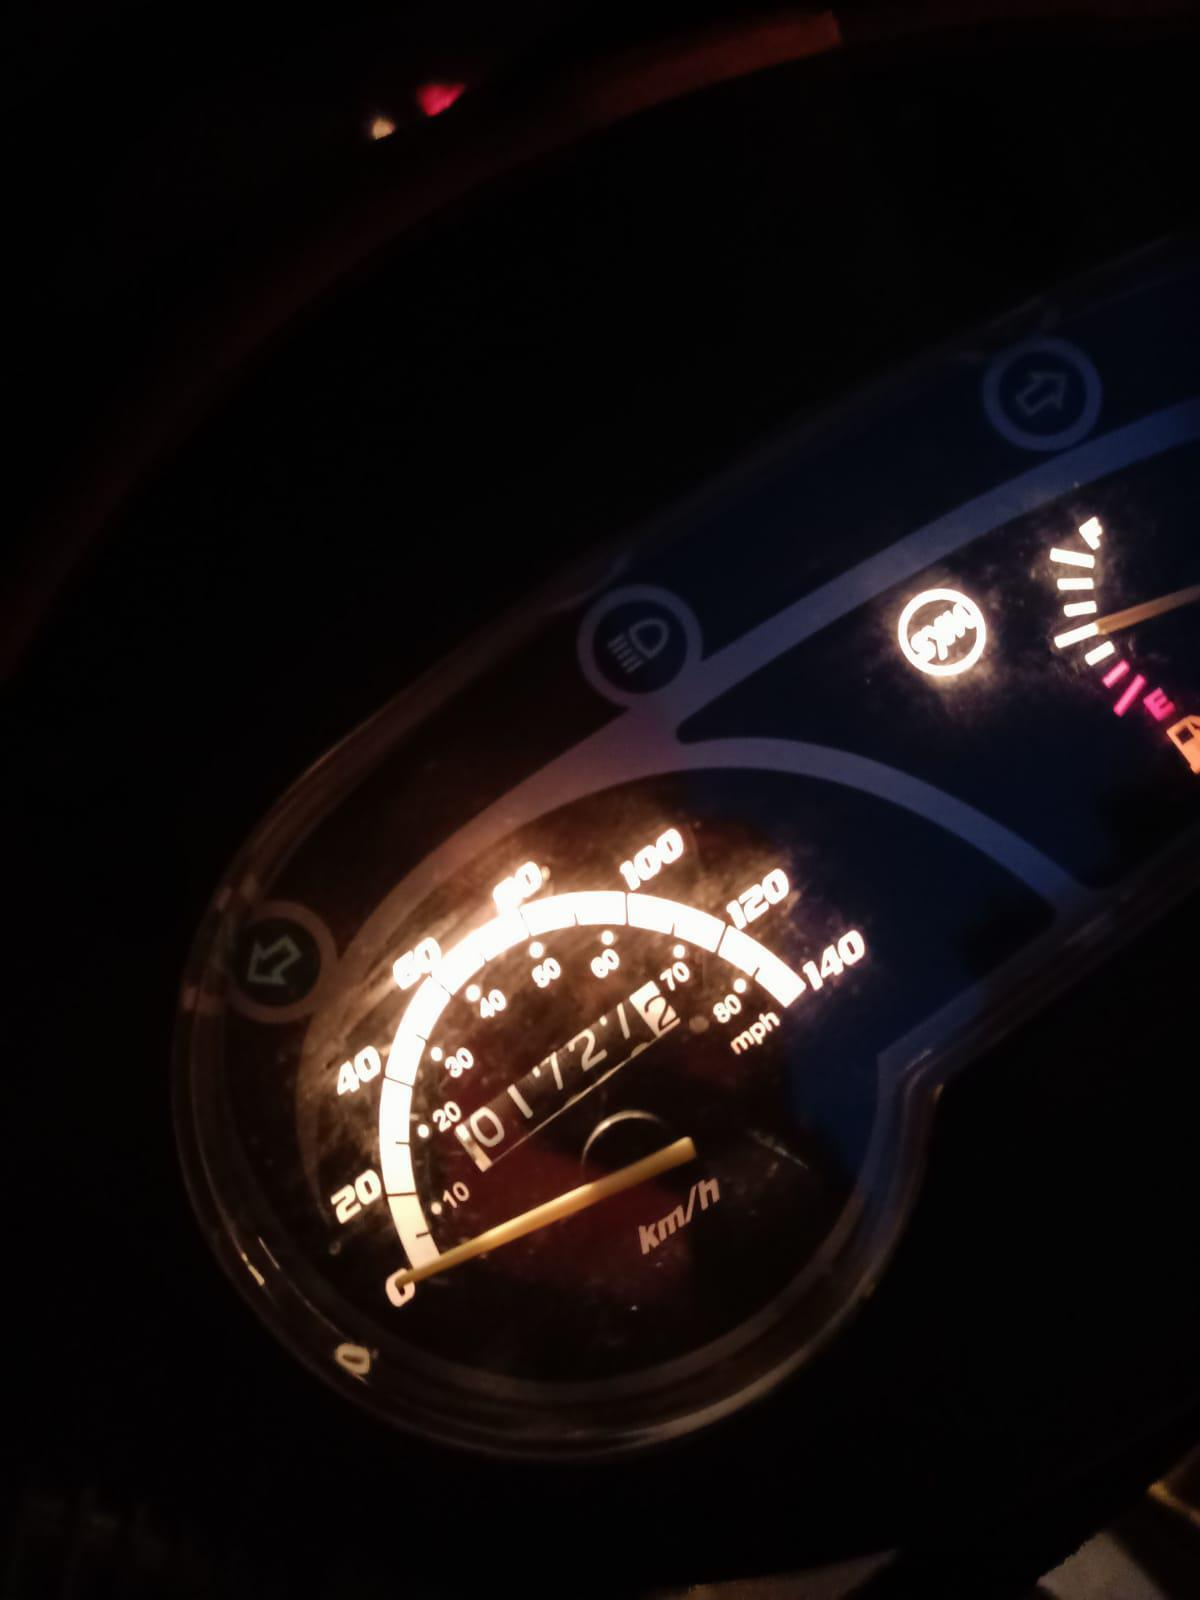0: (466, 1107, 507, 1151), (488, 989, 509, 1010), (442, 1099, 460, 1120), (456, 1048, 473, 1068)
1: (497, 1075, 534, 1123)
2: (563, 1031, 608, 1070), (640, 991, 679, 1033)
3: (442, 1056, 463, 1081)
4: (479, 997, 495, 1023)
5: (529, 965, 548, 989)
7: (592, 1000, 637, 1041), (528, 1049, 565, 1092), (659, 966, 676, 994)
odometer: (453, 976, 693, 1170)
